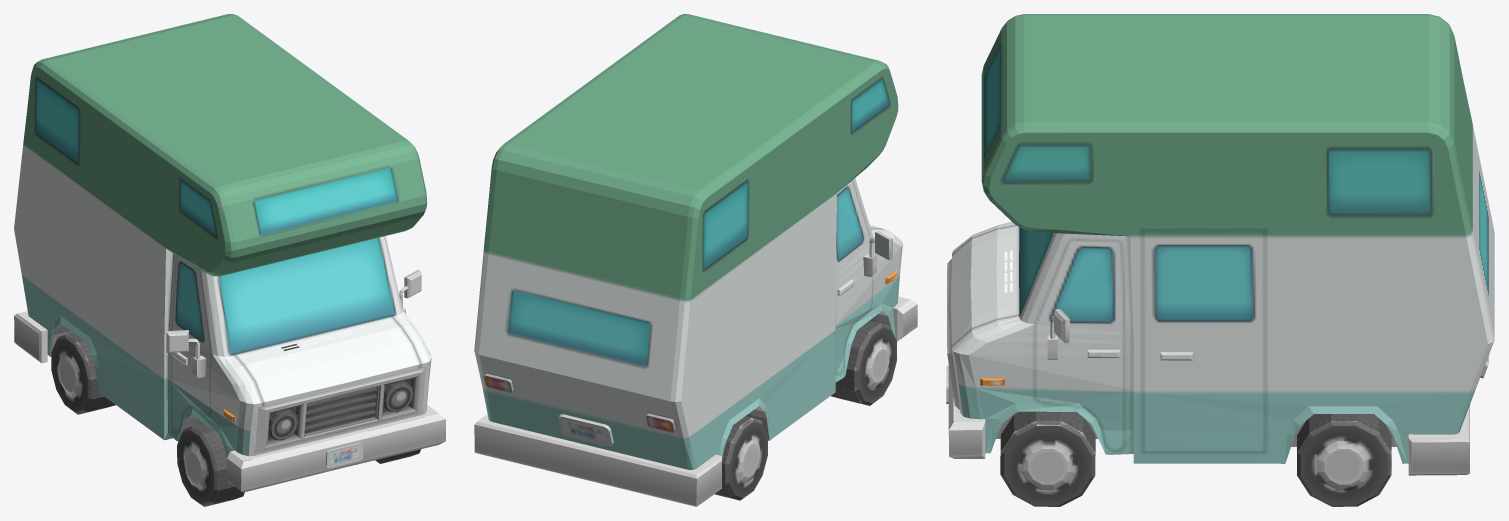
Rendered from camp.glb.
3 views of the same model, side by side, from view 1: azimuth 30°, elevation 25°; view 2: azimuth 150°, elevation 25°; view 3: azimuth 270°, elevation 25° (orthographic). The views are drawn at different scales.
Bounding box in the file's own units: 5.31 × 6.42 × 8.42.
Materials: 2 (1 with a texture image).
